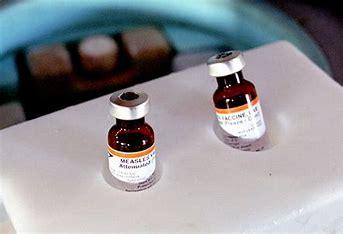Syringe: (201, 44, 279, 154), (103, 85, 164, 193)
